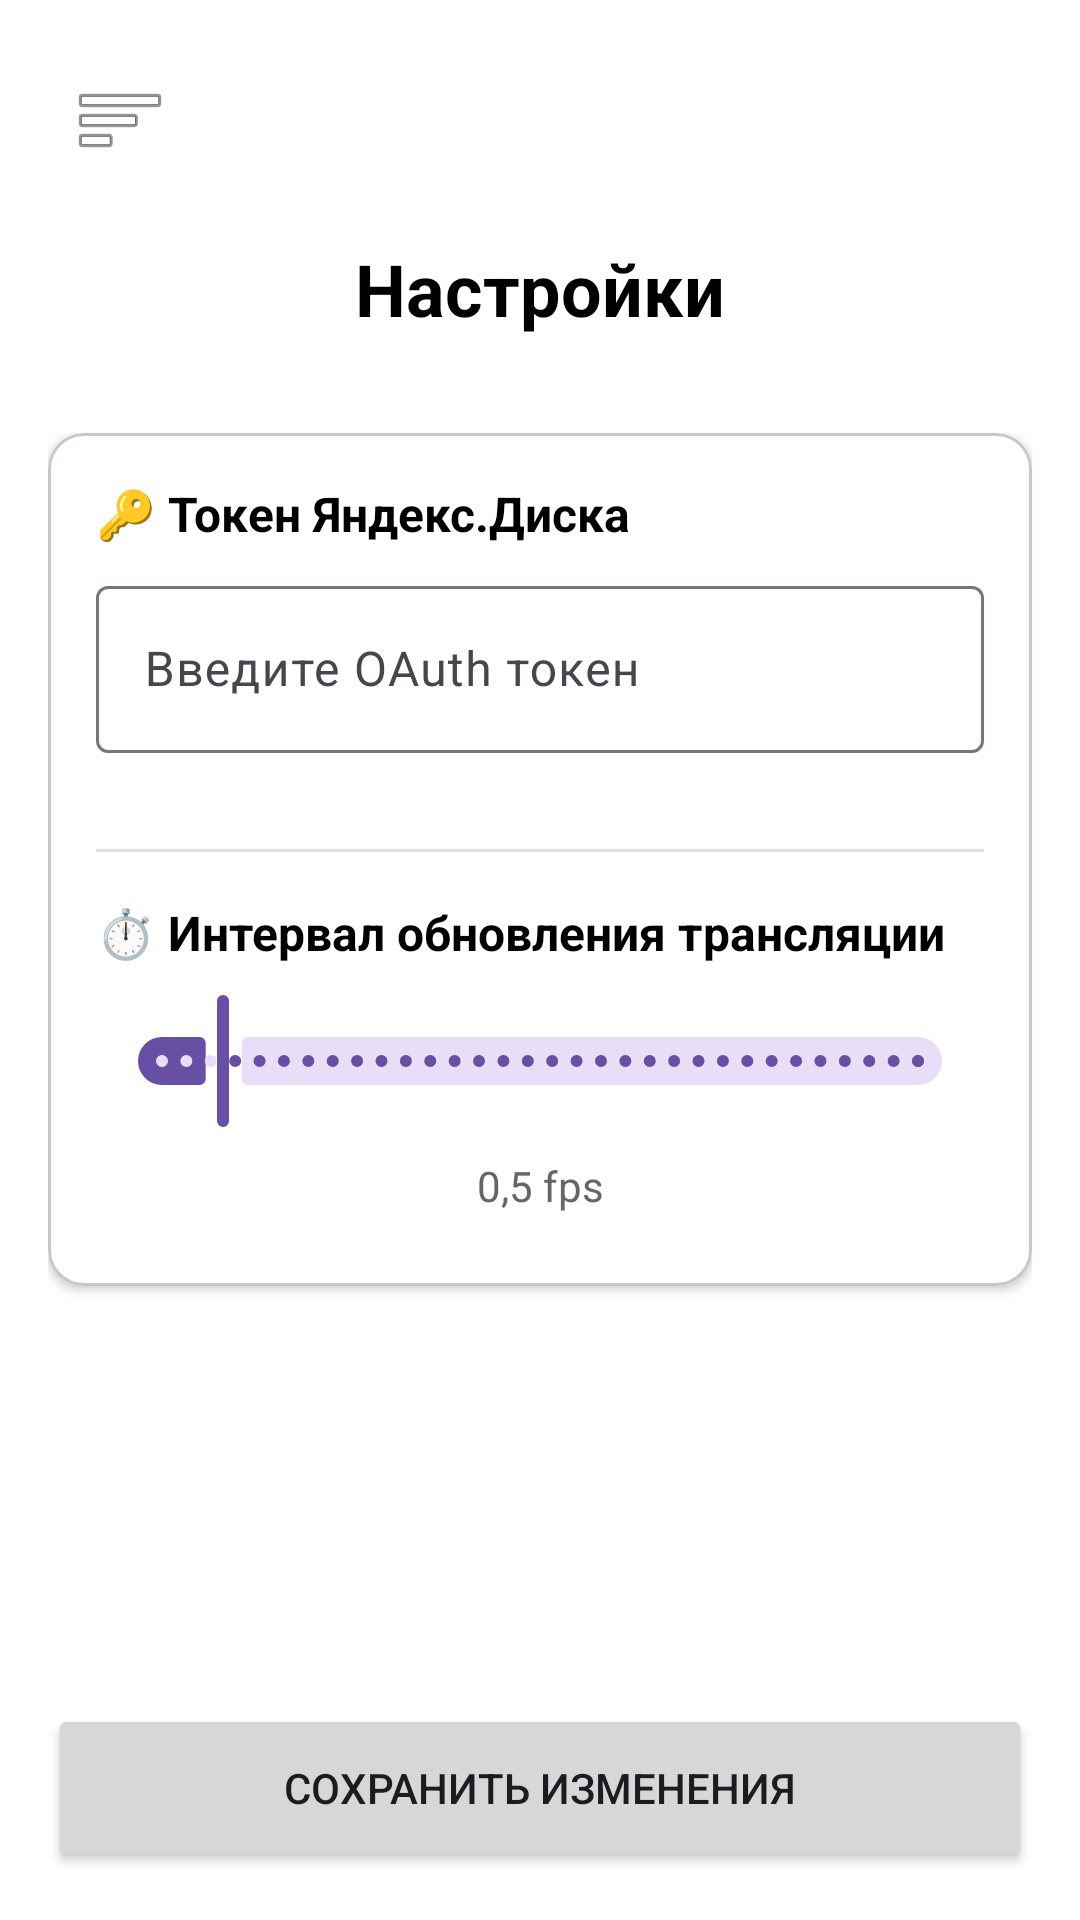

Icon bounding boxes for this 1080x1920 phone screenshot, format [x1,y1,x2,y2]:
sort by size: [79,94,161,147]
